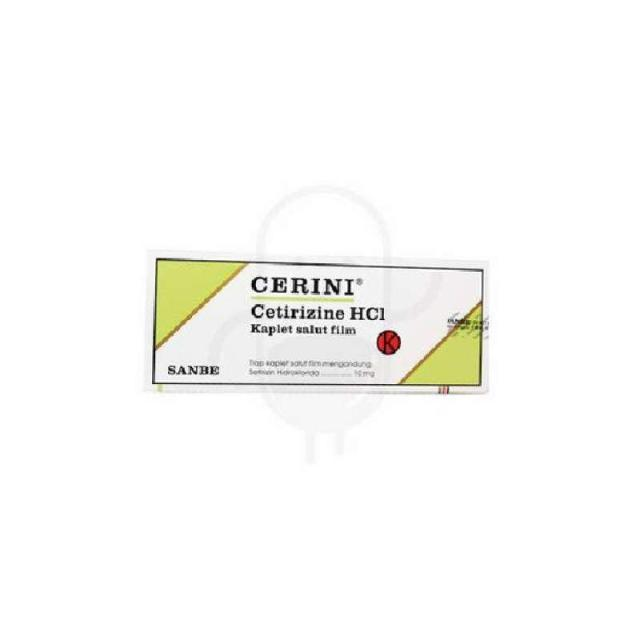drug-name: (247, 274, 365, 300)
